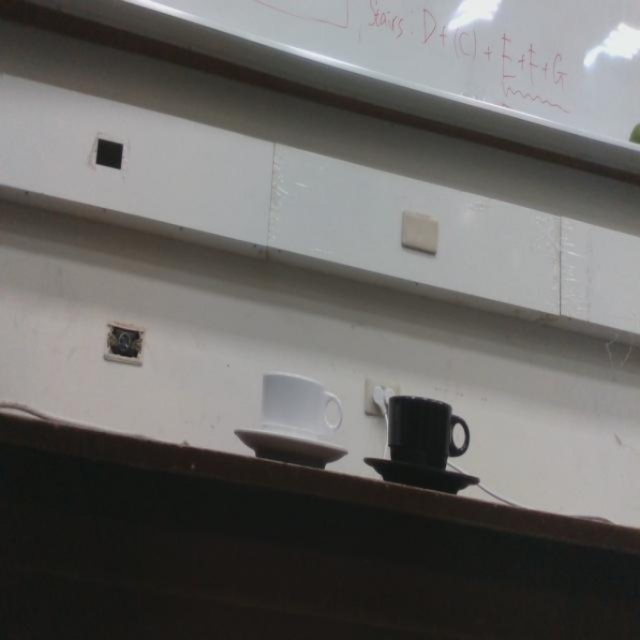black: (361, 390, 482, 498)
white: (230, 367, 350, 472)
